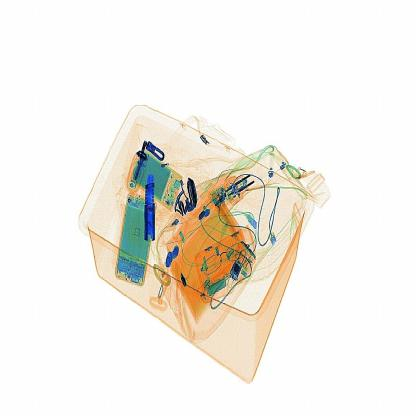pliers: (137, 169, 165, 251)
